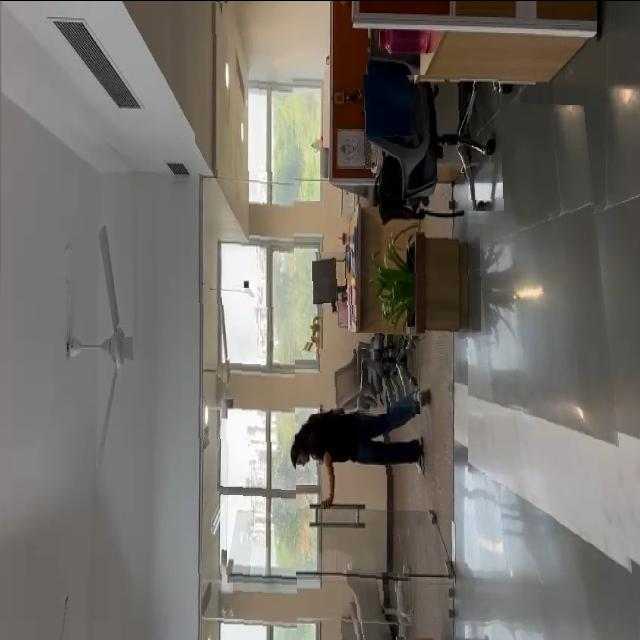floor: (468, 97, 640, 639)
furniture: (364, 74, 504, 212), (370, 221, 481, 338), (316, 348, 421, 413), (338, 568, 414, 640), (306, 251, 360, 322)
moving_object: (280, 413, 434, 474)
wall: (195, 0, 297, 640)
